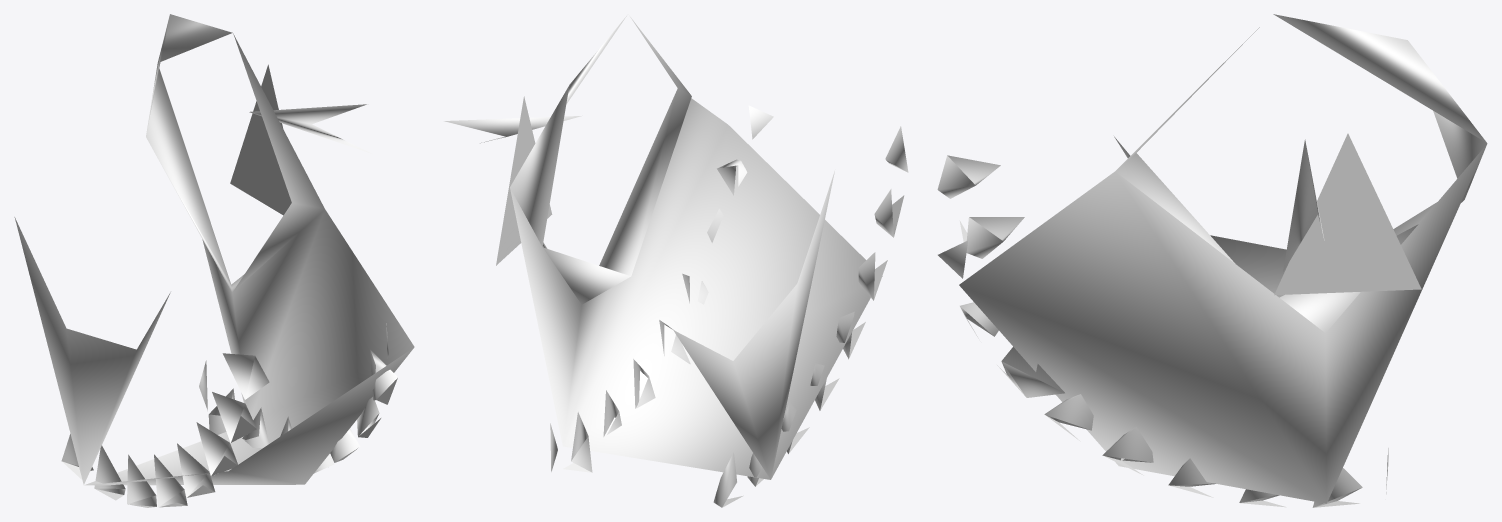
The picture shows the model from 3 angles, left to right: view 1: azimuth 30°, elevation 25°; view 2: azimuth 150°, elevation 25°; view 3: azimuth 270°, elevation 25°; orthographic projection. The views are drawn at different scales.
Bounding box in the file's own units: 0.7108 × 0.9669 × 0.9966.
Materials: 1 (1 with a texture image).
